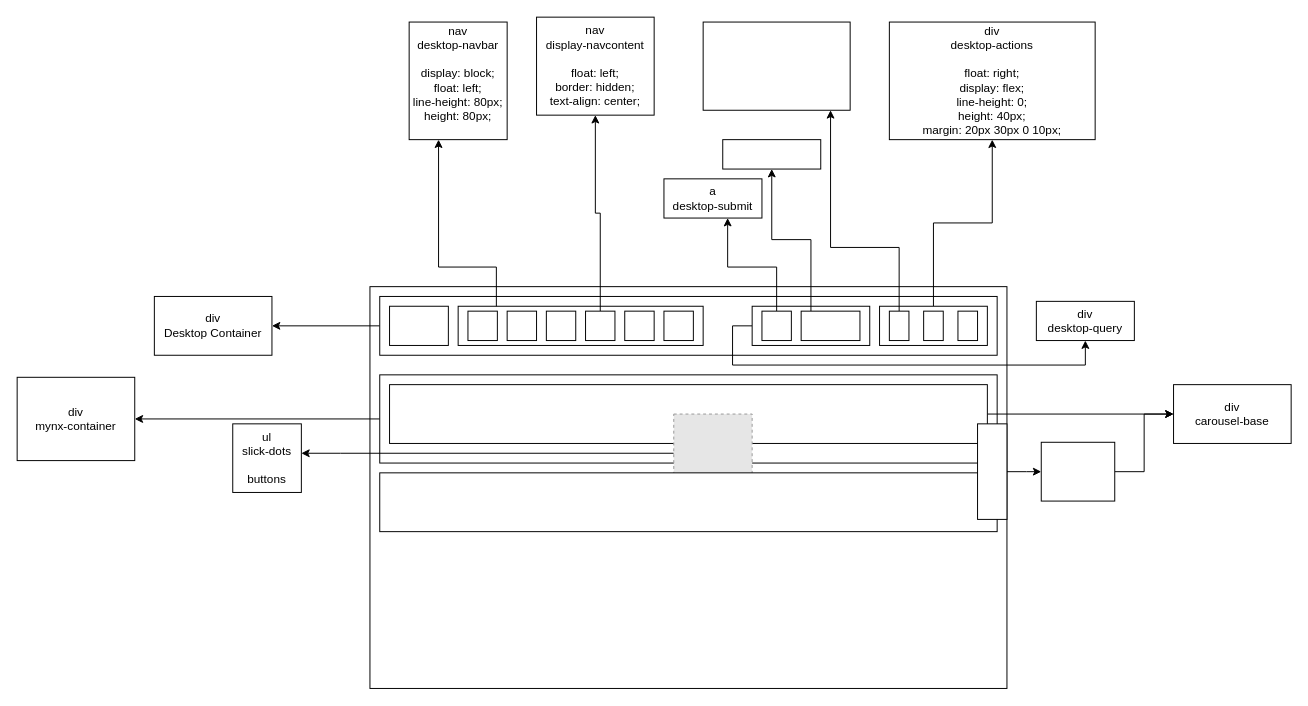
Some shapes in this 1308 by 706 pixel diagram are drawn without their labels. Grey dashed boxes stand in for pictures. The shapes that lost their labels are listed below. From the top down, each one's centre as x and y in pixels, then its label:
At (x=776, y=65): "div desktop-user position: relative; height: 60px; margin: 0 20px 0 15px;".
At (x=771, y=154): "input desktop-searchbar".
At (x=418, y=325): "Myntra Logo".
At (x=1077, y=471): "div sidebar-collapsed".
At (x=688, y=502): "div row-base".
